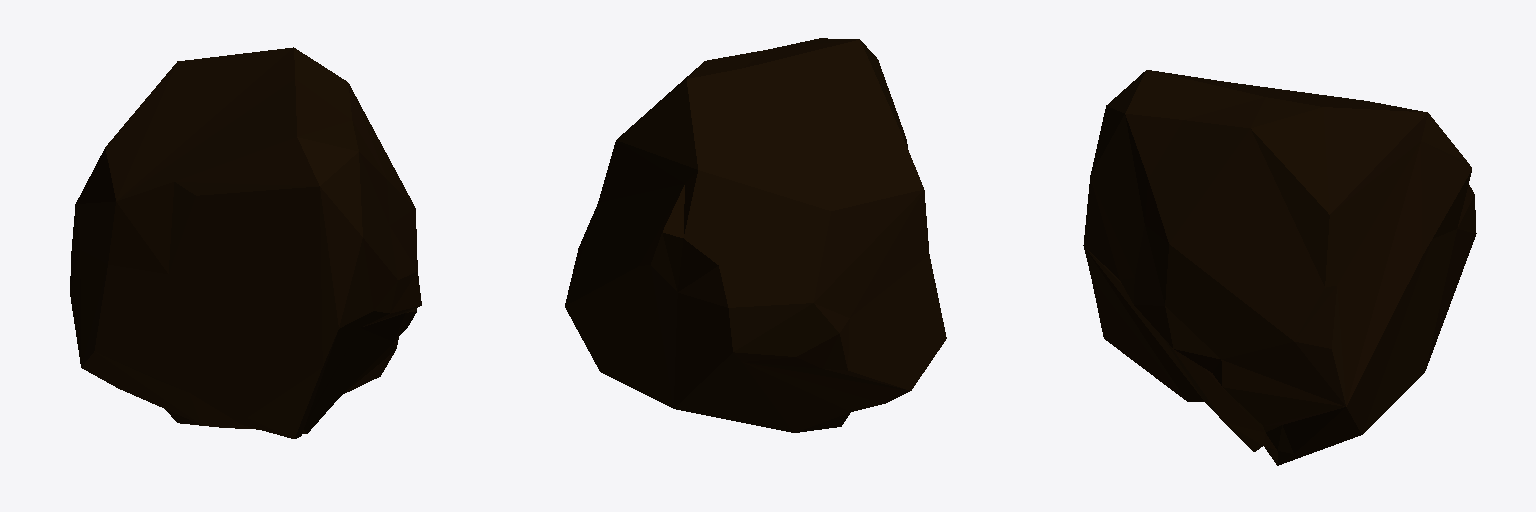
Rendered from asteroid.obj.
3 renders of one model, left to right at view 1: azimuth 30°, elevation 25°; view 2: azimuth 150°, elevation 25°; view 3: azimuth 270°, elevation 25°, orthographic.
Parts seen in each view (by area): view 1: rock_01; view 2: rock_01; view 3: rock_01.
Boxes of the visible parts, <box> form: rock_01: <box>70,47,421,438</box>; rock_01: <box>565,38,946,432</box>; rock_01: <box>1083,70,1476,465</box>.
Bounding box in the file's own units: 1.25 × 1.25 × 1.25.